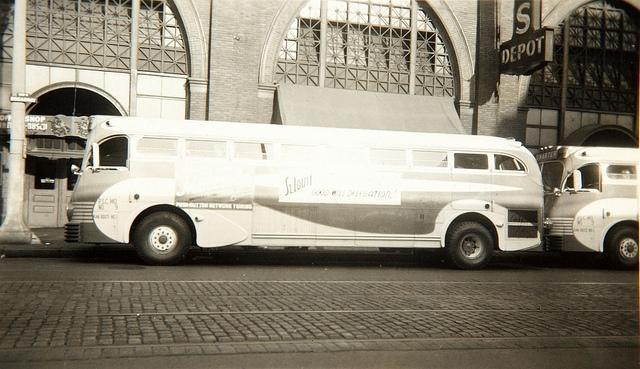bus: (64, 116, 542, 267), (535, 146, 640, 266)
